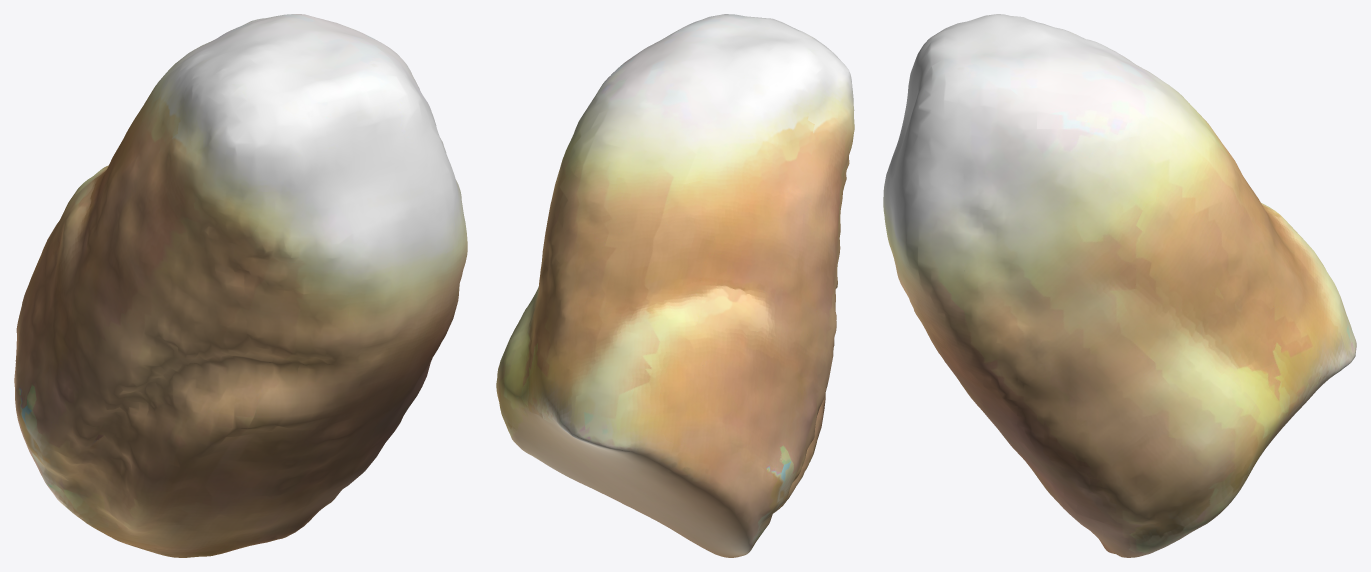
The model's file is Erdnuss.fbx.
The picture shows the model from 3 angles, left to right: view 1: azimuth 30°, elevation 25°; view 2: azimuth 150°, elevation 25°; view 3: azimuth 270°, elevation 25°; orthographic projection. The views are drawn at different scales.
Visible parts, largest first — view 1: Erdnuss_tex; view 2: Erdnuss_tex; view 3: Erdnuss_tex.
Boxes of the visible parts, x1=… form: Erdnuss_tex: x1=14, y1=14, x2=467, y2=557; Erdnuss_tex: x1=496, y1=14, x2=854, y2=557; Erdnuss_tex: x1=883, y1=14, x2=1356, y2=557.
Bounding box in the file's own units: 0.9573 × 1.45 × 1.24.
Materials: 1 (1 with a texture image).
